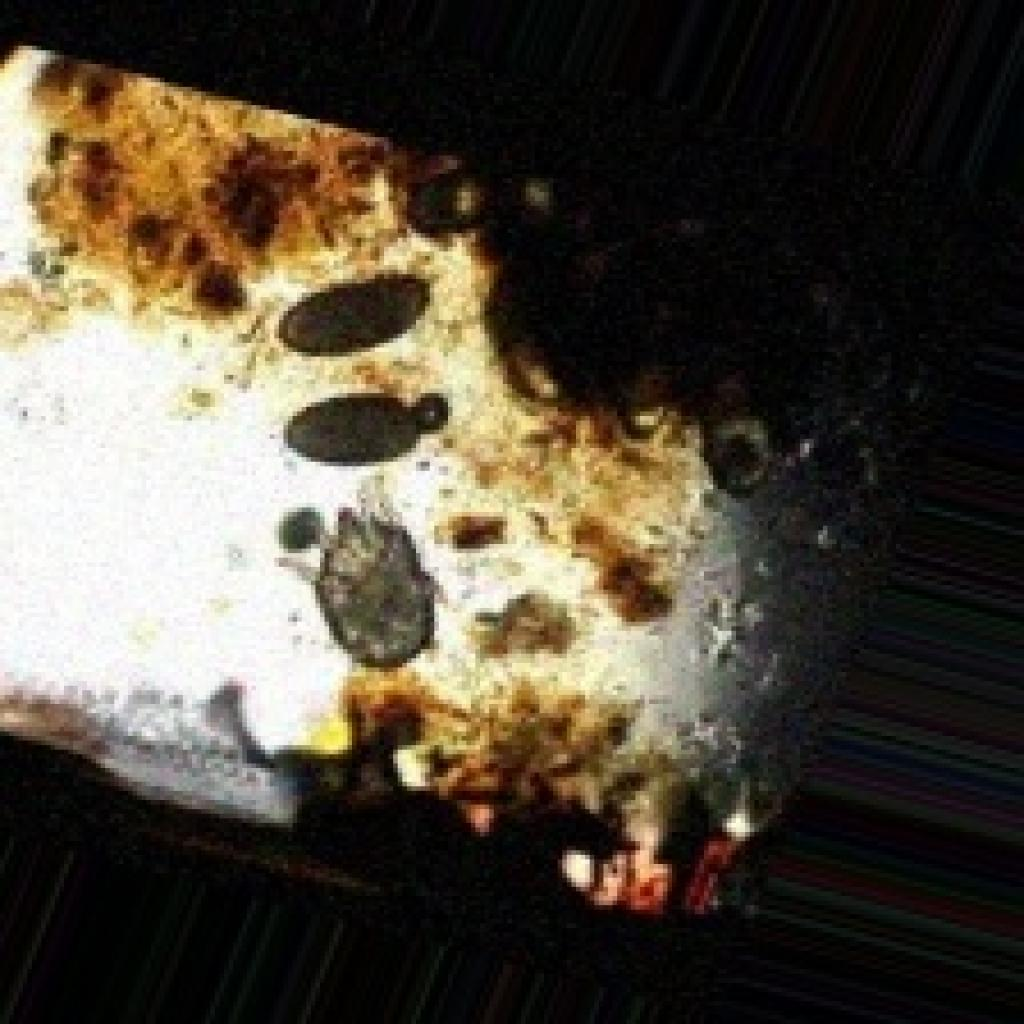Yeast: (124, 114, 783, 901)
